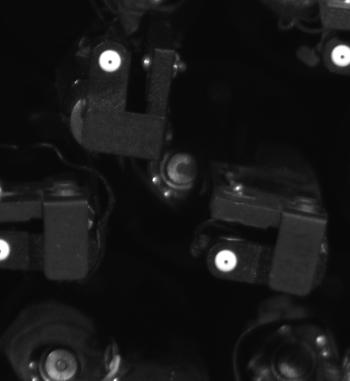fiber: (209, 246, 244, 279), (94, 45, 126, 77), (326, 40, 350, 69), (1, 231, 20, 267)
